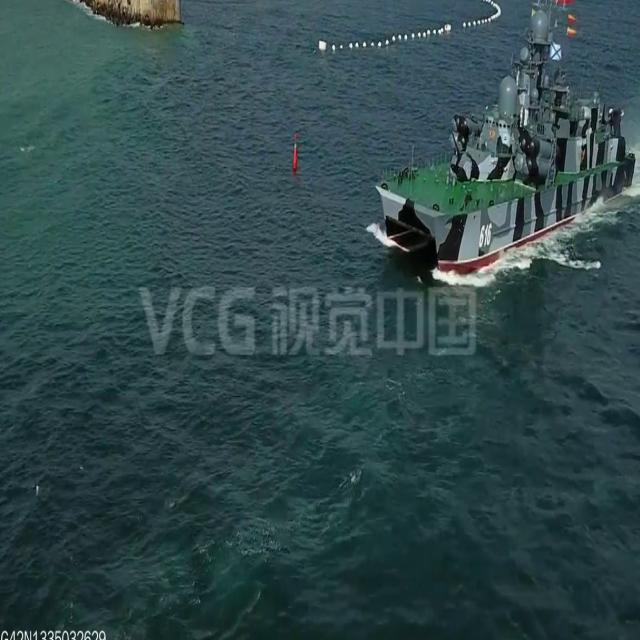navalvessels: (369, 0, 631, 276)
